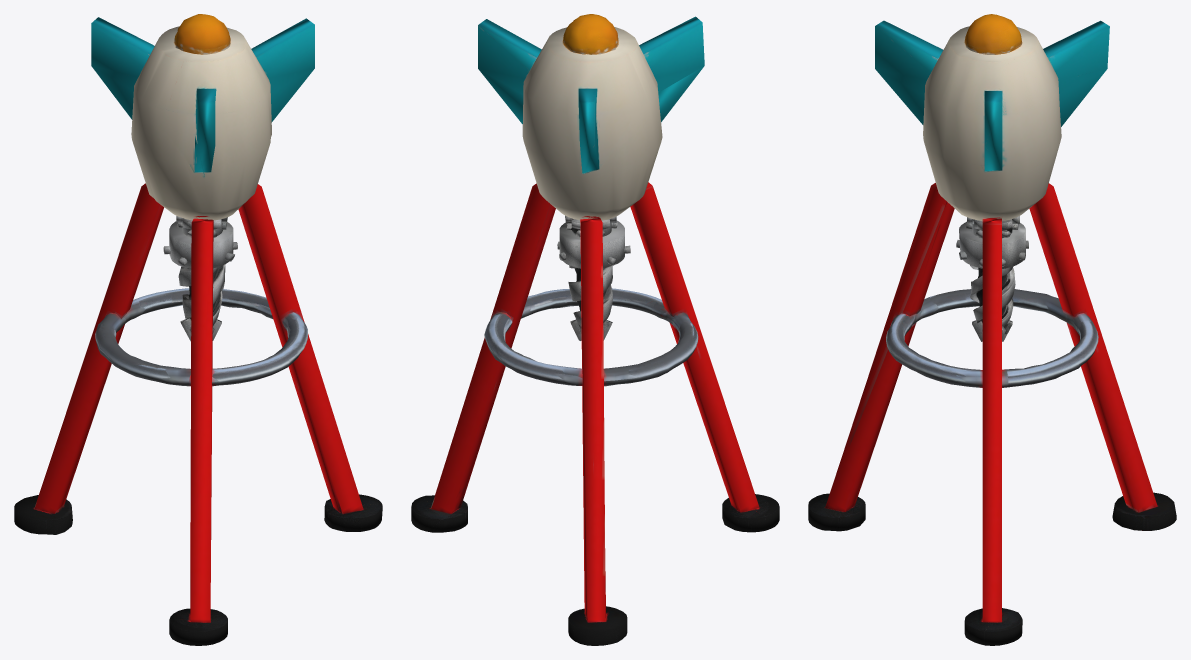
File: extractor.fbx
3 renders of one model, left to right at view 1: azimuth 30°, elevation 25°; view 2: azimuth 150°, elevation 25°; view 3: azimuth 270°, elevation 25°, orthographic.
Parts seen in each view (by area): view 1: Mesh_0; view 2: Mesh_0; view 3: Mesh_0.
Part boxes in pixels (left/top/right/bottom): Mesh_0: left=14, top=14, right=382, bottom=645; Mesh_0: left=411, top=14, right=779, bottom=645; Mesh_0: left=808, top=14, right=1176, bottom=645.
Size of the model in its own units: 52.29 by 94.97 by 58.5.
1 material, 1 textured.
